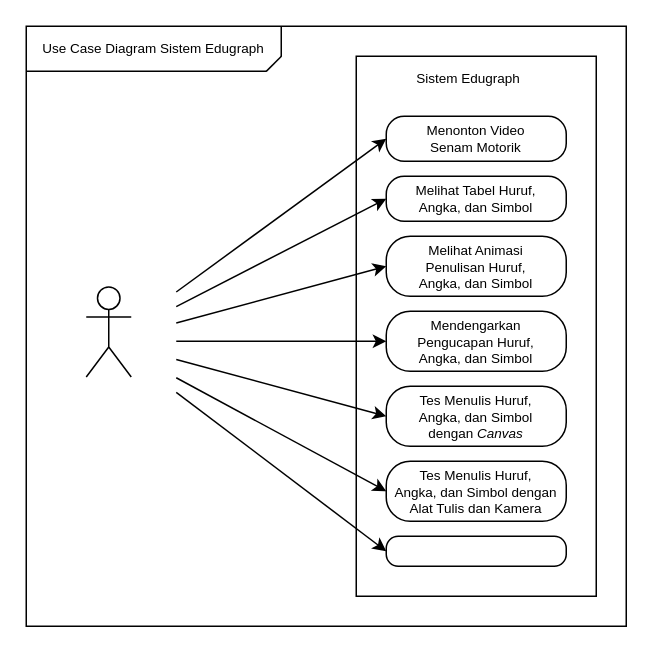
The diagram is 653 pixels wide and 653 high, and some of its shapes have lost their labels. Each missing label, with the centre of its shape:
Anak Disgrafia: point 108,331
Melihat Peringkat: point 475,550
